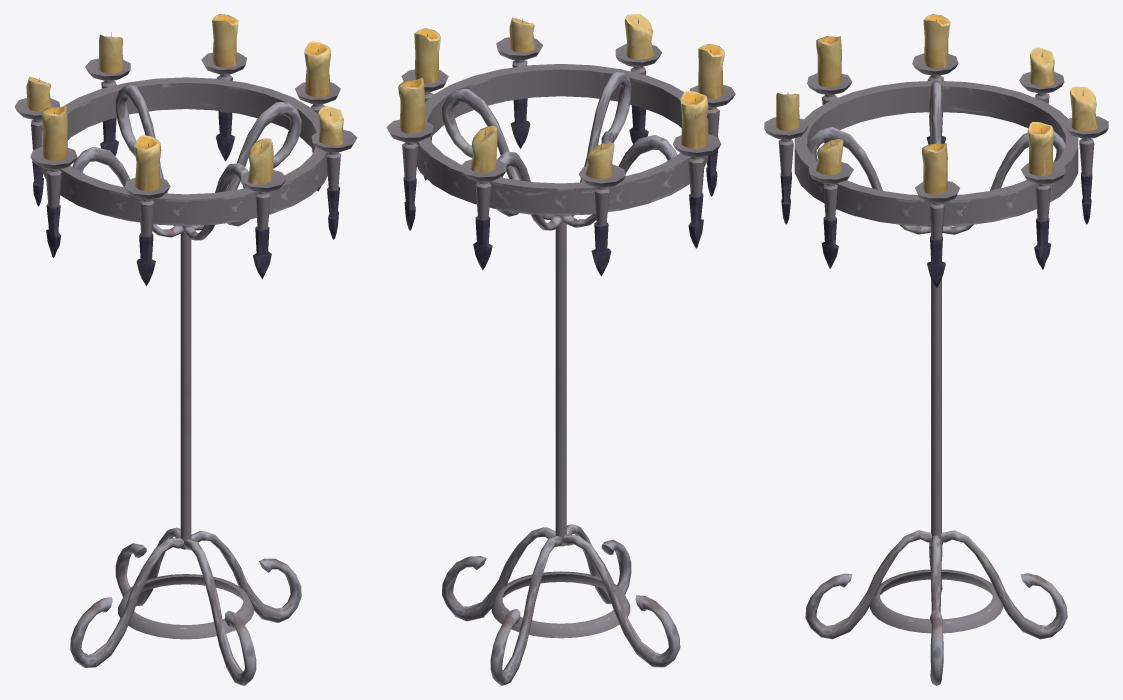
Rendered from candlestick-stand.glb.
3 views of the same model, side by side, from view 1: azimuth 30°, elevation 25°; view 2: azimuth 150°, elevation 25°; view 3: azimuth 270°, elevation 25° (orthographic). The views are drawn at different scales.
Parts seen in each view (by area): view 1: CandleStick_Stand; view 2: CandleStick_Stand; view 3: CandleStick_Stand.
Part boxes in pixels (x1,y1,x2,y2): CandleStick_Stand: [14, 14, 357, 685]; CandleStick_Stand: [386, 14, 735, 685]; CandleStick_Stand: [764, 14, 1108, 685].
Bounding box in the file's own units: 0.7323 × 1.31 × 0.7313.
Materials: 2 (2 with a texture image).
